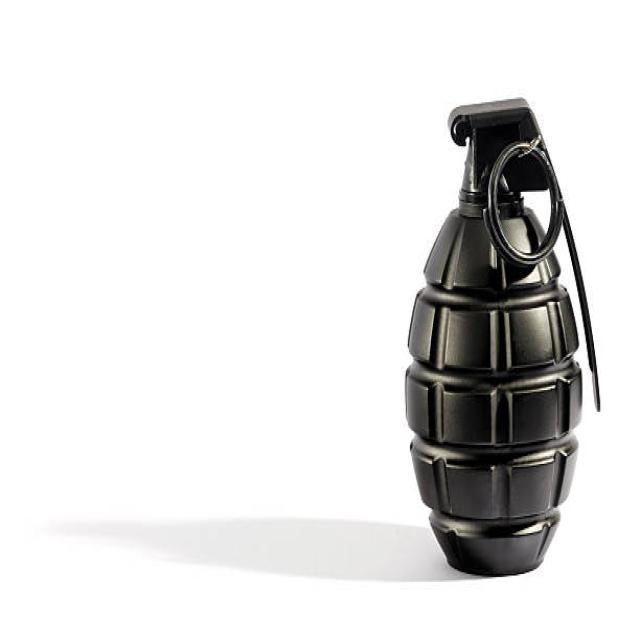grenade: (397, 88, 611, 586)
